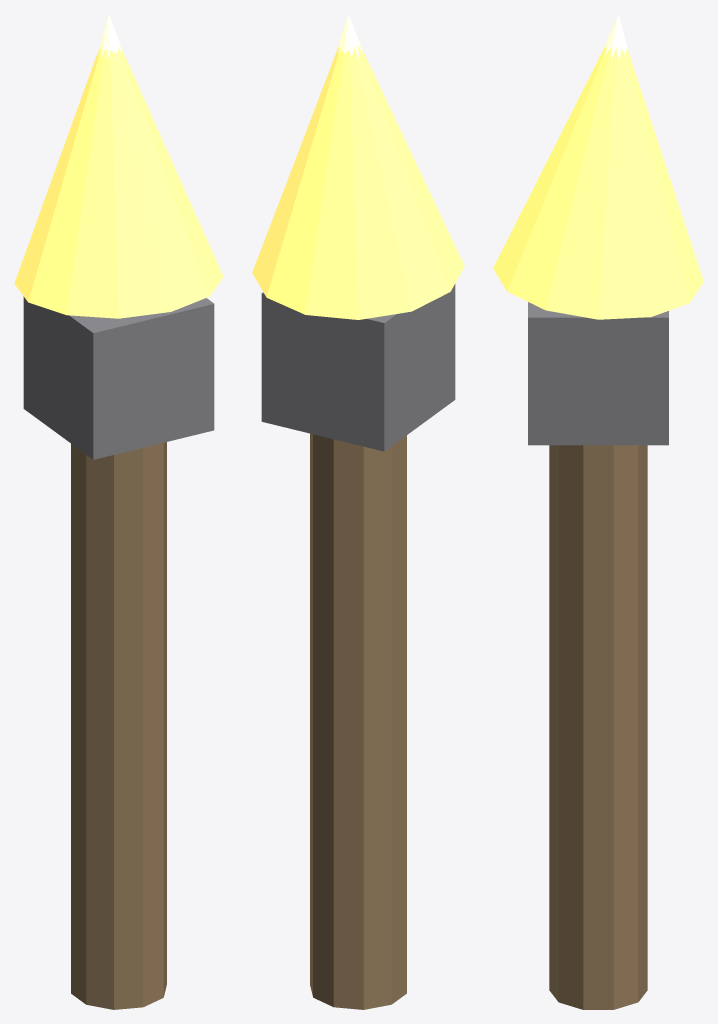
File: struct_torch.glb
3 views of the same model, side by side, from view 1: azimuth 30°, elevation 25°; view 2: azimuth 150°, elevation 25°; view 3: azimuth 270°, elevation 25° (orthographic).
Visible parts, largest first — view 1: TorchStick, TorchFlame; view 2: TorchStick, TorchFlame; view 3: TorchStick, TorchFlame.
Part boxes in pixels (box(x1,y1,x2,y2)): TorchStick: box(23, 296, 214, 1009); TorchFlame: box(14, 14, 223, 318); TorchStick: box(261, 284, 455, 1009); TorchFlame: box(252, 14, 464, 319); TorchStick: box(528, 302, 668, 1009); TorchFlame: box(493, 14, 703, 319).
Bounding box in the file's own units: 0.15 × 0.7645 × 0.1496.
